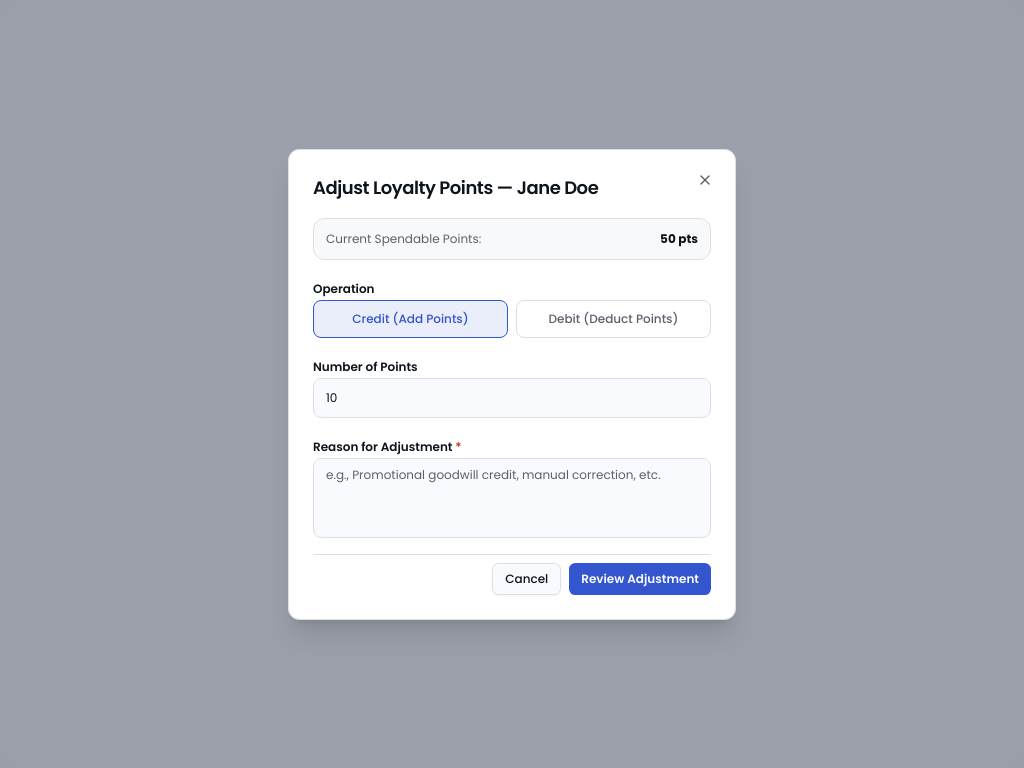
Test: Loyalty Module - Frontend Integration & Financial Contracts › ManualPointsAdjustDialog › prevents debits greater than spendable points
Note: Select Debit
Click the radio button labelled "Debit (Deduct Points)" at {"x": 614, "y": 318}, box top-left (516, 300), bottom-right (711, 338)
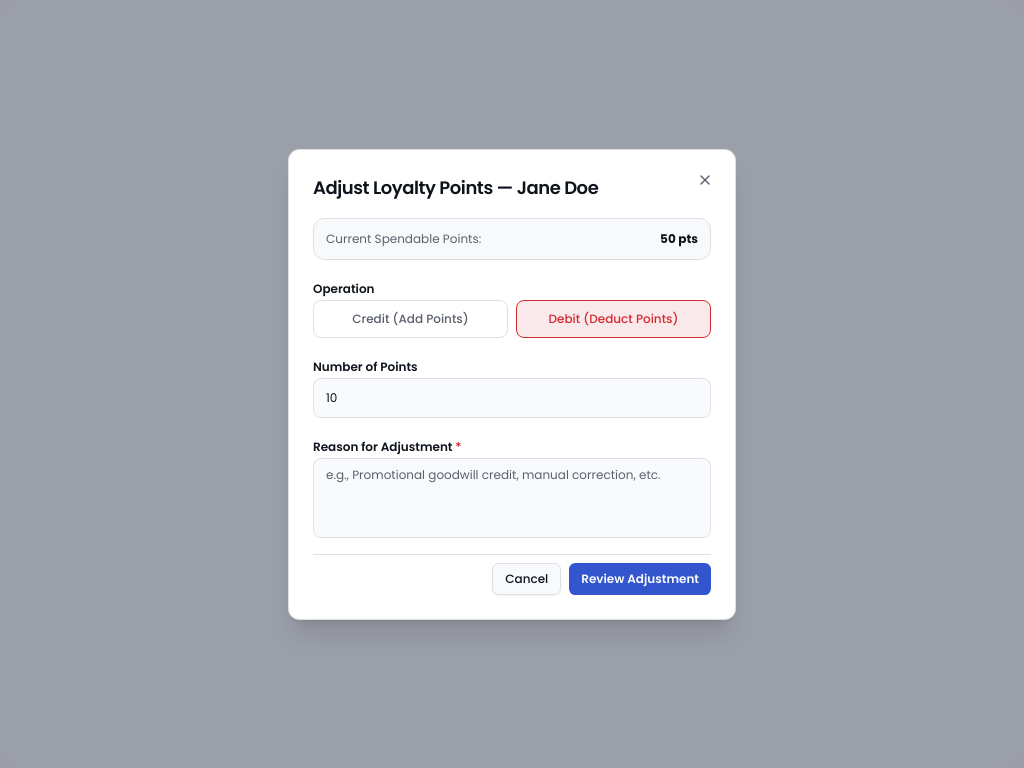
Replace the text in the number field labelled "Number of Points" with "100" at {"x": 512, "y": 398}, box top-left (313, 378), bottom-right (711, 418)
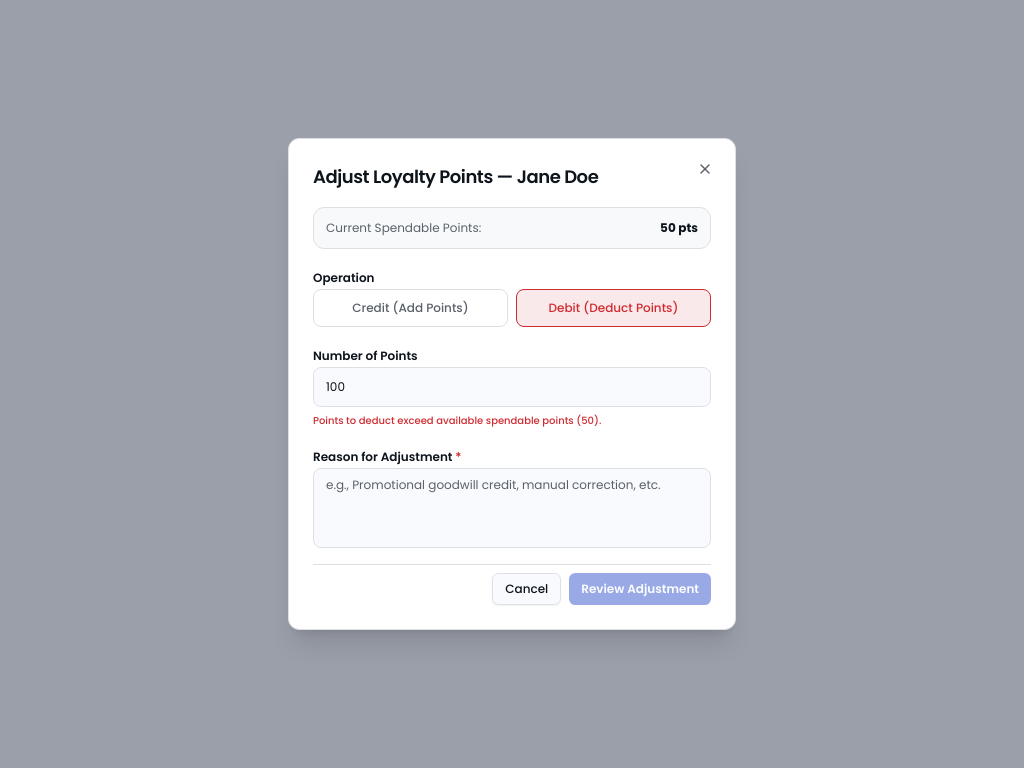
Expected: the text "Points to deduct exceed available spendable points (50)." is shown, top-left (313, 413), bottom-right (601, 428)
Expected: the button "Review Adjustment" is disabled, top-left (569, 573), bottom-right (711, 605)
